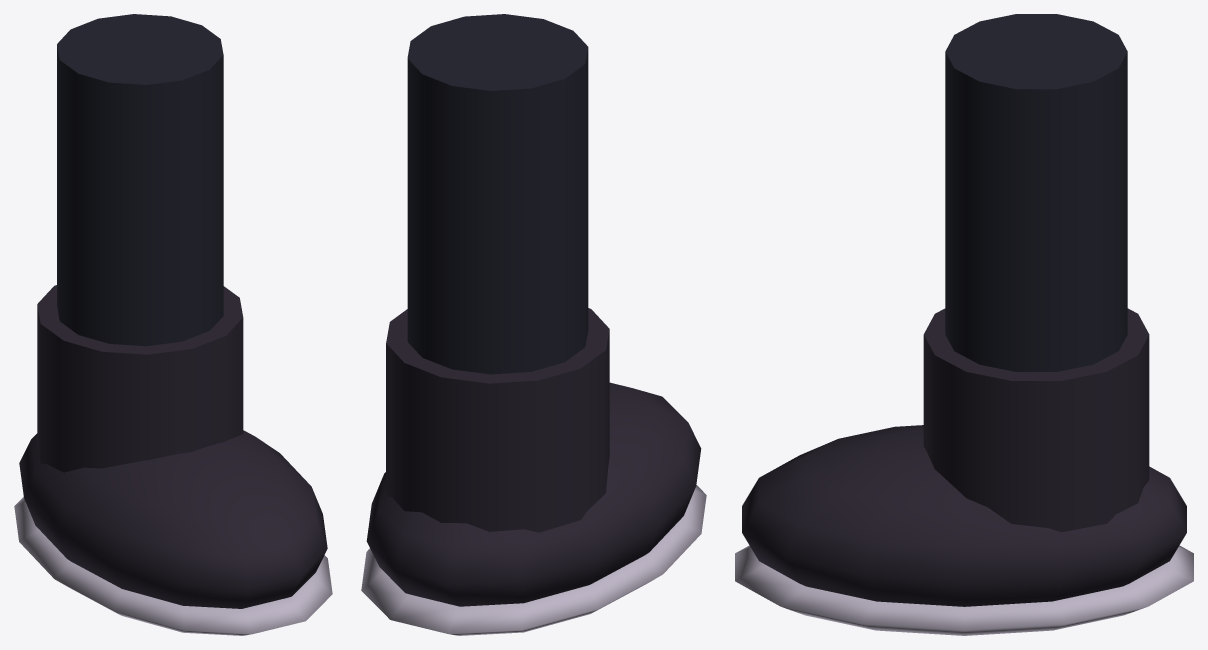
File: player_right_leg.obj
3 views of the same model, side by side, from view 1: azimuth 30°, elevation 25°; view 2: azimuth 150°, elevation 25°; view 3: azimuth 270°, elevation 25° (orthographic). The views are drawn at different scales.
Parts seen in each view (by area): view 1: player_right_leg; view 2: player_right_leg; view 3: player_right_leg.
Boxes of the visible parts, x1,y1,x2,y2 form: player_right_leg: [14, 14, 332, 635]; player_right_leg: [361, 14, 706, 635]; player_right_leg: [735, 14, 1193, 635].
Size of the model in its own units: 0.124 by 0.25 by 0.1911.
1 material, 1 textured.
